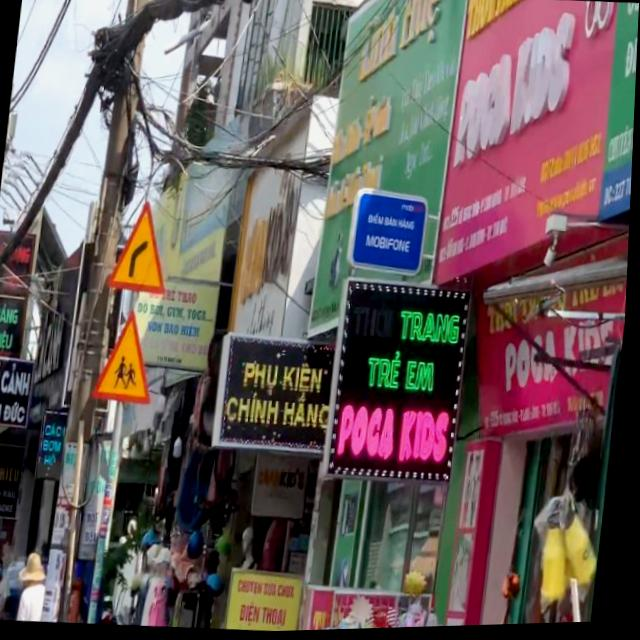Tre em: (94, 306, 164, 408)
cho ngoat nguy hiem vong ben phai: (106, 198, 178, 299)
